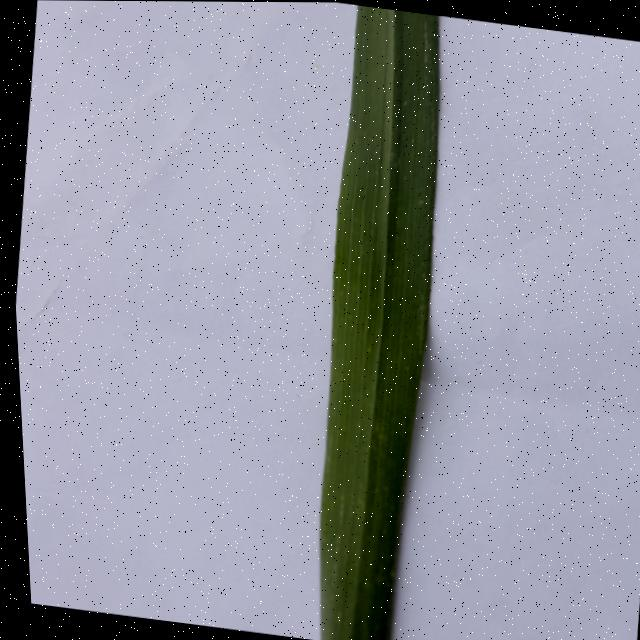healthy_wheat: (251, 1, 500, 640)
